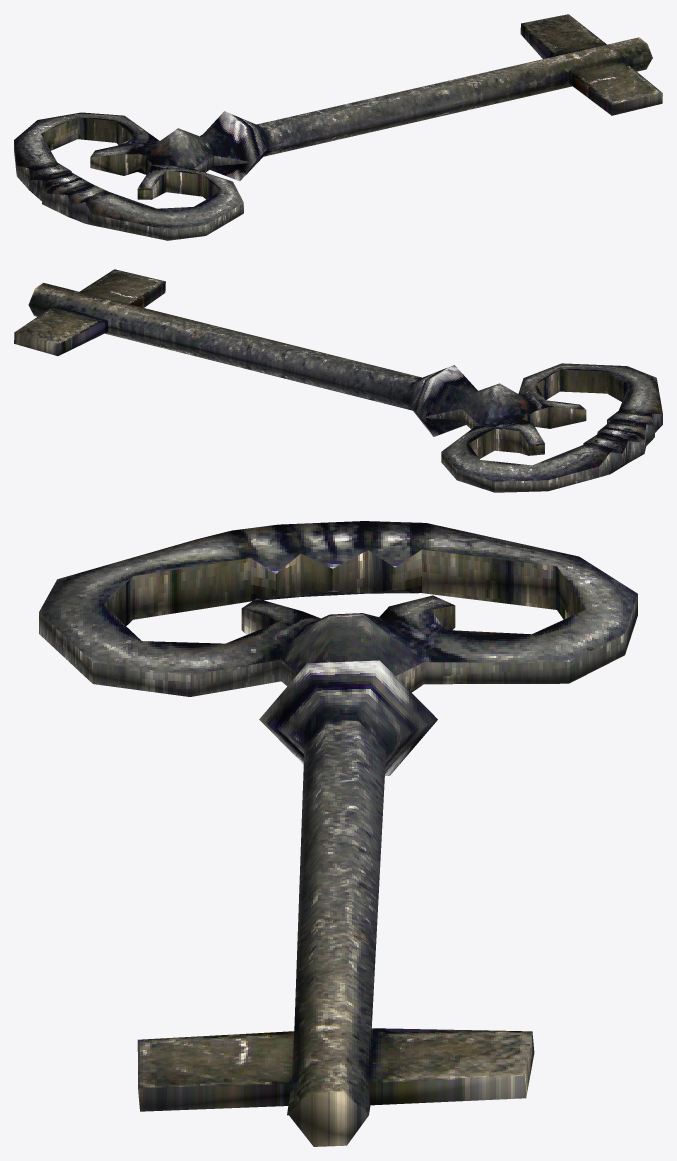
File: key.glb
3 views of the same model, one above another, from view 1: azimuth 30°, elevation 25°; view 2: azimuth 150°, elevation 25°; view 3: azimuth 270°, elevation 25° (orthographic). The views are drawn at different scales.
Parts seen in each view (by area): view 1: key2; view 2: key2; view 3: key2.
Boxes of the visible parts, <box> form: key2: <box>14,14,662,240</box>; key2: <box>14,269,662,492</box>; key2: <box>39,521,637,1146</box>.
Size of the model in its own units: 0.204 by 0.0192 by 0.0882.
1 material, 1 textured.
